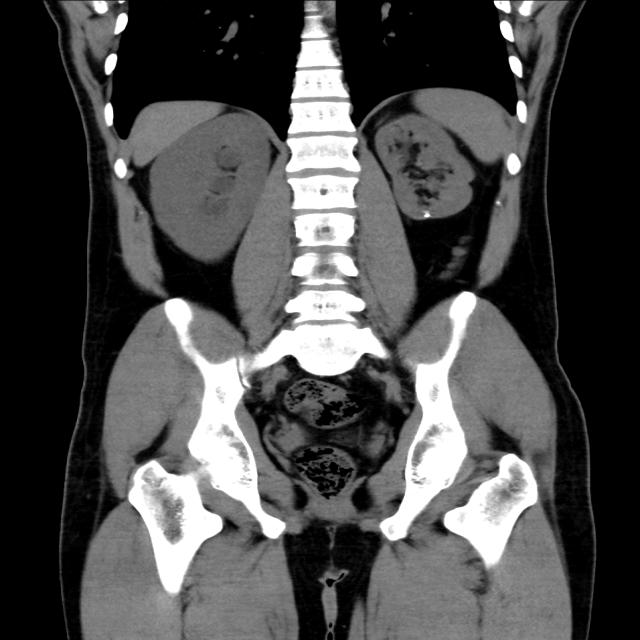kidneystone: (422, 210, 431, 218)
